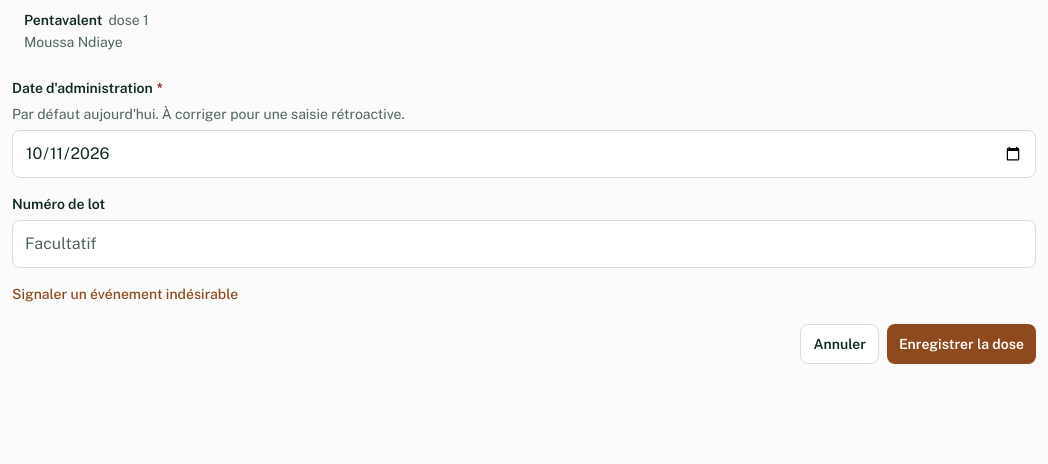
Scenario: FormulaireDose › explique le refus du moteur plutôt que d'afficher une erreur générique
Click the button "Enregistrer la dose" at (962, 344), box [887,324,1036,364]
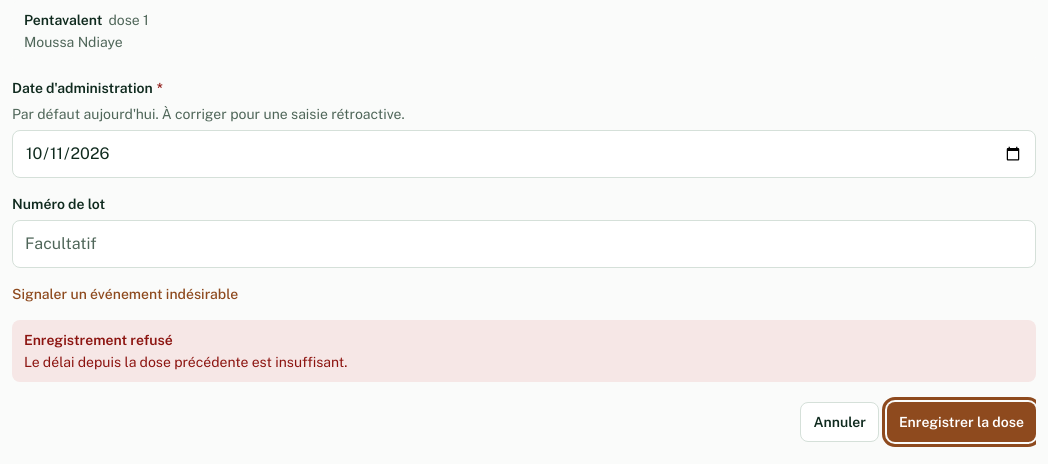
Result: the text "Le délai depuis la dose précédente est insuffisant." is shown at [24,354,347,370]
